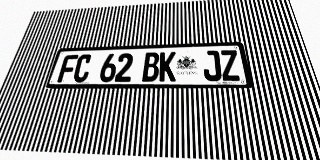2: (114, 53, 134, 82)
6: (99, 53, 118, 82)
B: (142, 52, 160, 82)
C: (72, 54, 93, 82)
F: (57, 55, 78, 82)
J: (202, 50, 222, 81)
K: (159, 52, 176, 81)
Z: (219, 50, 241, 81)
